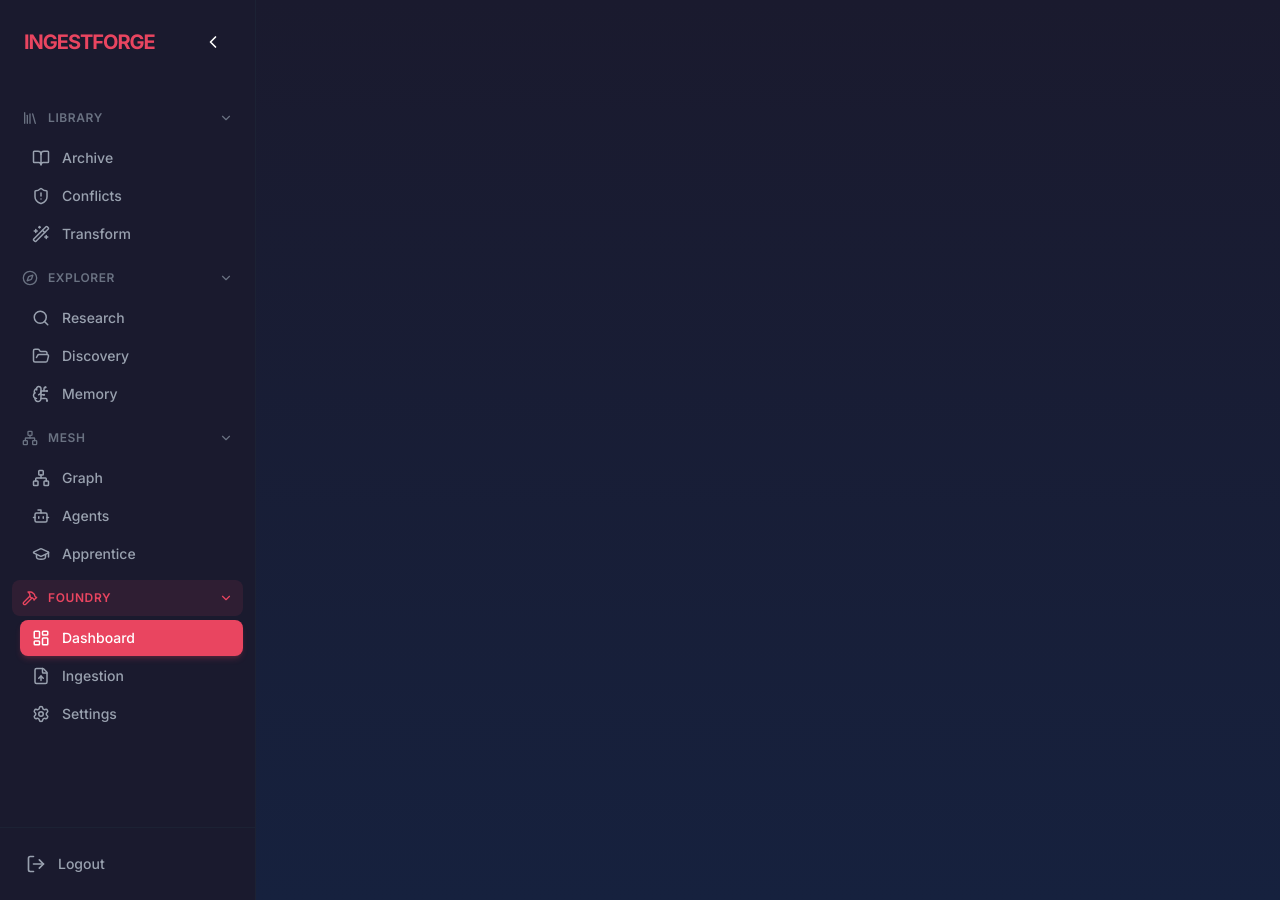
Test: Sidebar › Section Toggle › collapses section when clicked
Expected: the text "Archive" is shown, [62, 148, 113, 168]
# Click to collapse
Click the button "Library": (128, 118) [12, 100, 243, 136]
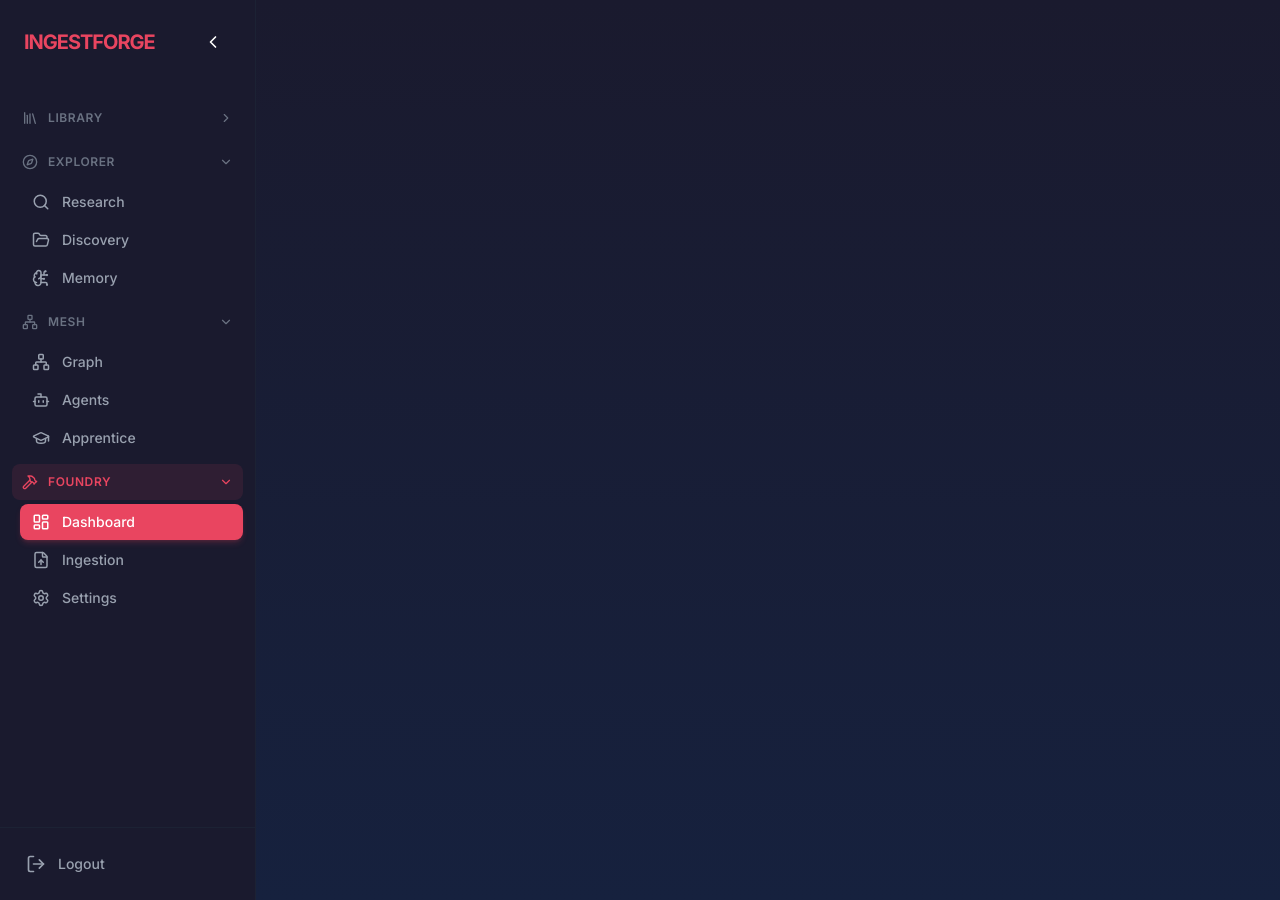
Result: the link "Archive" is gone
